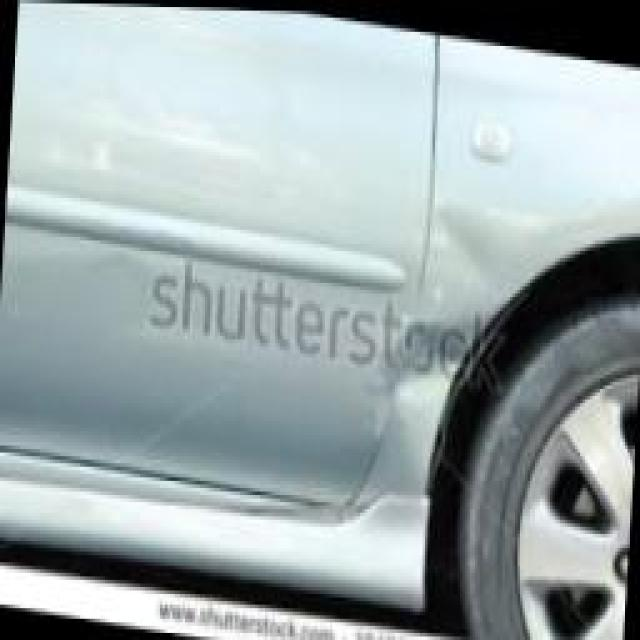Door: (0, 1, 436, 521)
Fender: (289, 29, 640, 600)
